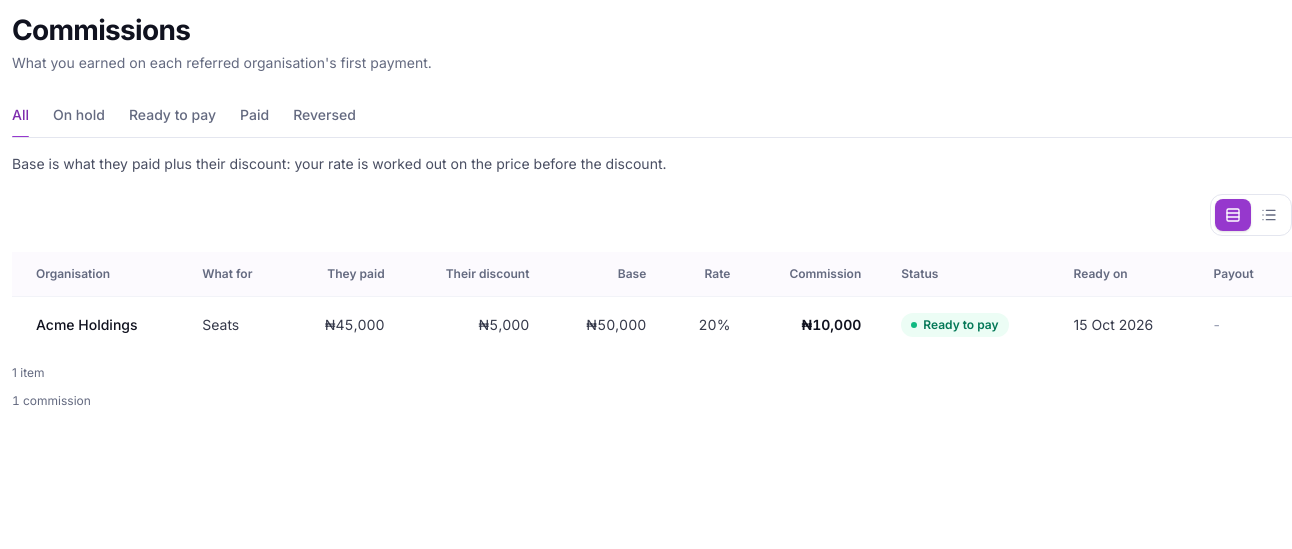
Test case: affiliate commissions › asks the API for the chosen status
This screenshot has width=1292, height=549.
Check: the text "Acme Holdings" is shown, box [36,316,138,333]
Click the tab "Ready to pay" at (172, 115), box [129,93,216,137]
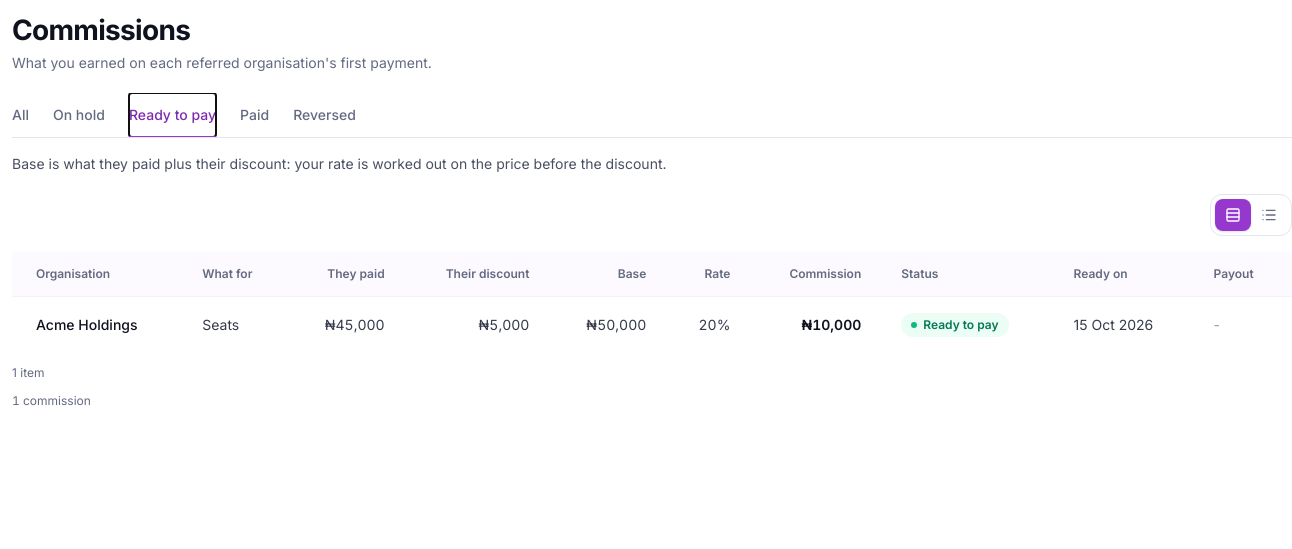
Click the tab "On hold" at (79, 115), box [53,93,105,137]
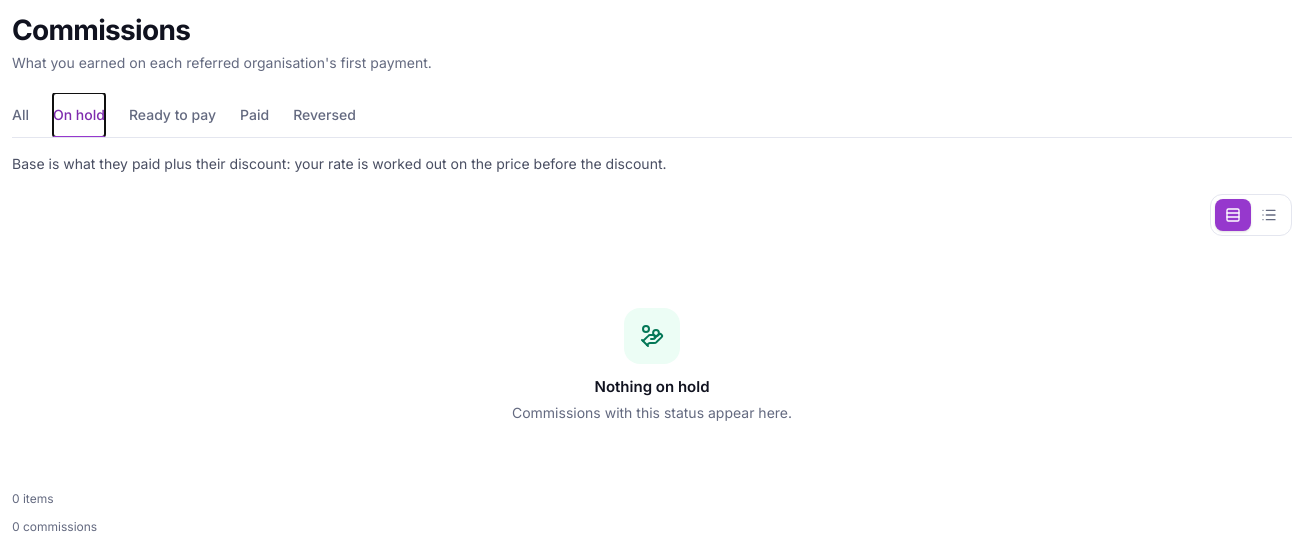
Check: the text "Nothing on hold" is shown, box [594,377,710,396]
